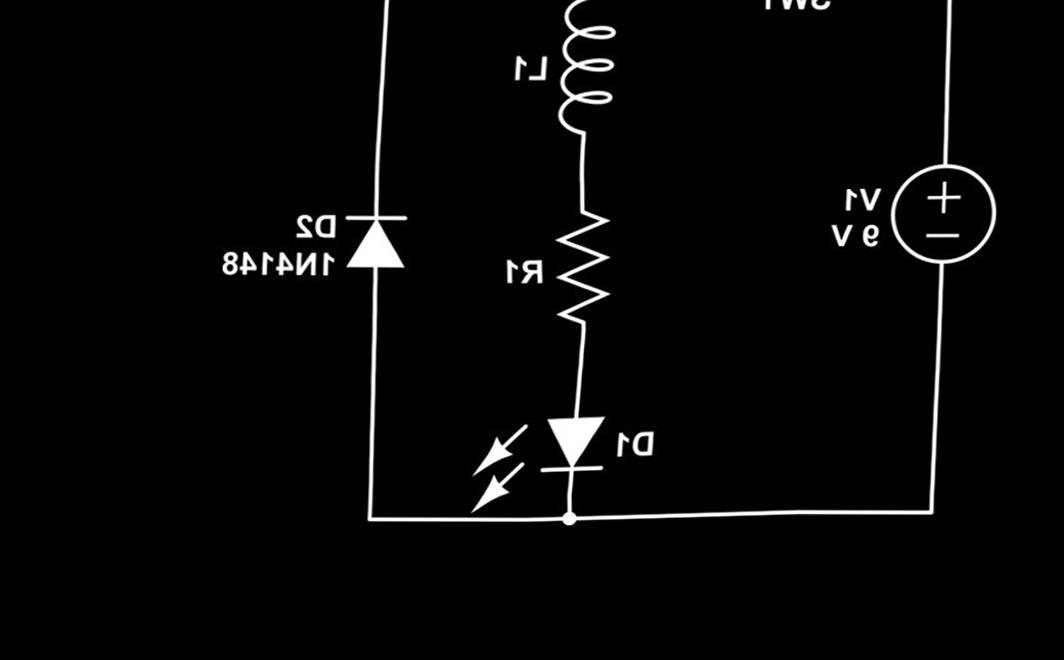Battery: (887, 152, 1024, 287)
